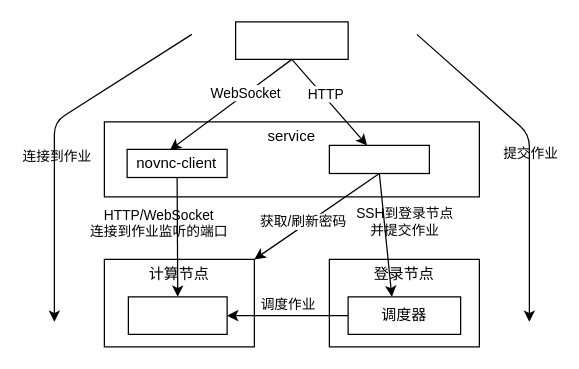
This 579x369 diagram has some shape labels left out. Here are the shapes that lost their labels. From the top down, the centre of each, then its label:
point (291, 40): 客户端浏览器
point (378, 159): portal-web
point (177, 315): 作业
